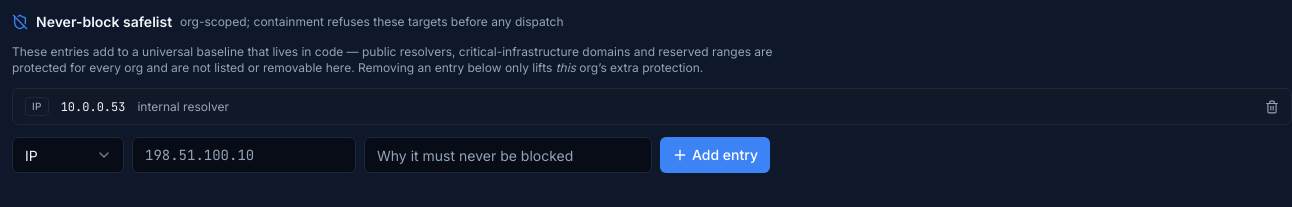
Scenario: SafelistPanel › removal takes an explicit confirmation, and cancelling leaves the guard up
Click the button with test id "safelist-remove-safe_dns" at (1272, 107), box [1265,100,1279,114]
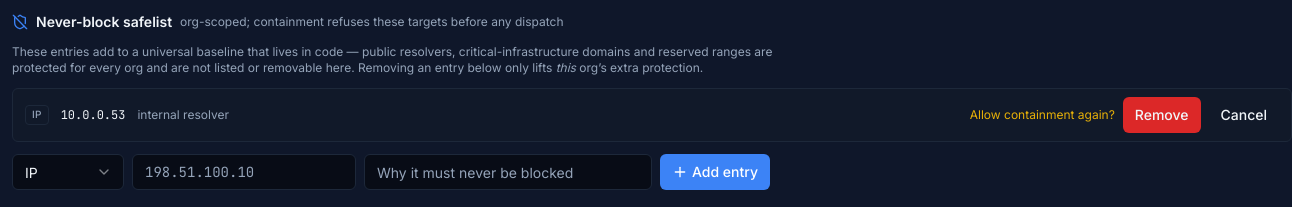
Click the button with test id "safelist-remove-cancel-safe_dns" at (1244, 115), box [1208,97,1279,133]
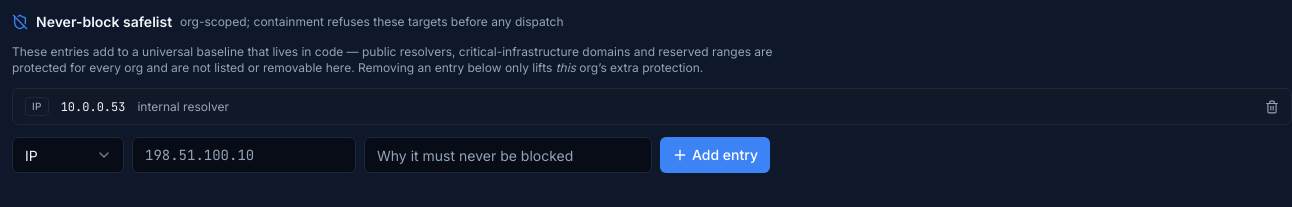
Expected: the list item with test id "safelist-entry-safe_dns" is shown, [12,88,1291,125]
Click the button with test id "safelist-remove-safe_dns" at (1272, 107), box [1265,100,1279,114]
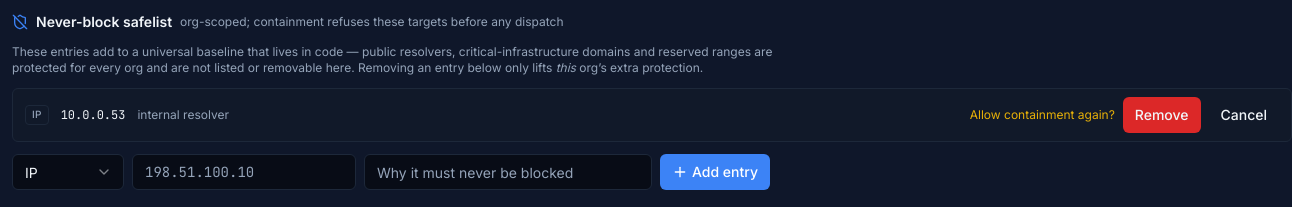
Click the button with test id "safelist-remove-confirm-safe_dns" at (1162, 115), box [1123,97,1200,133]
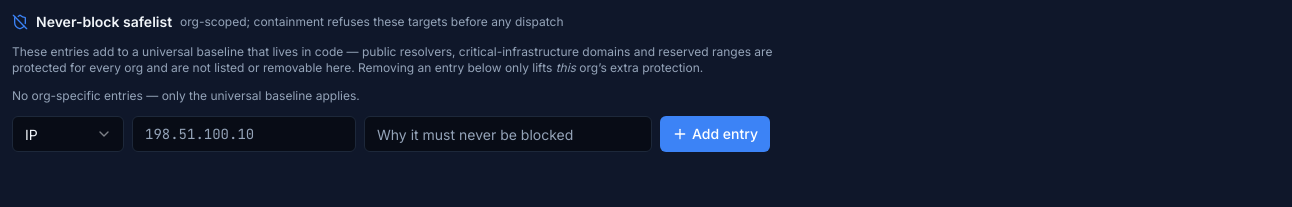
Result: the list item with test id "safelist-entry-safe_dns" is gone
